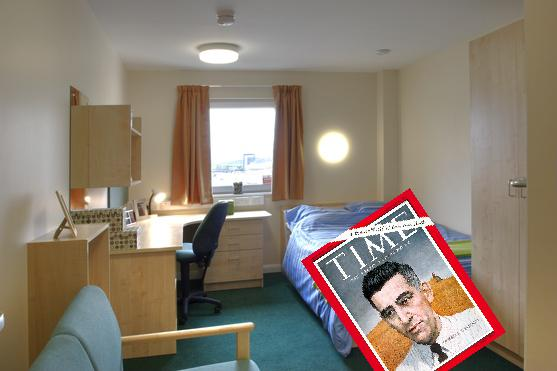times: (300, 183, 510, 371)
